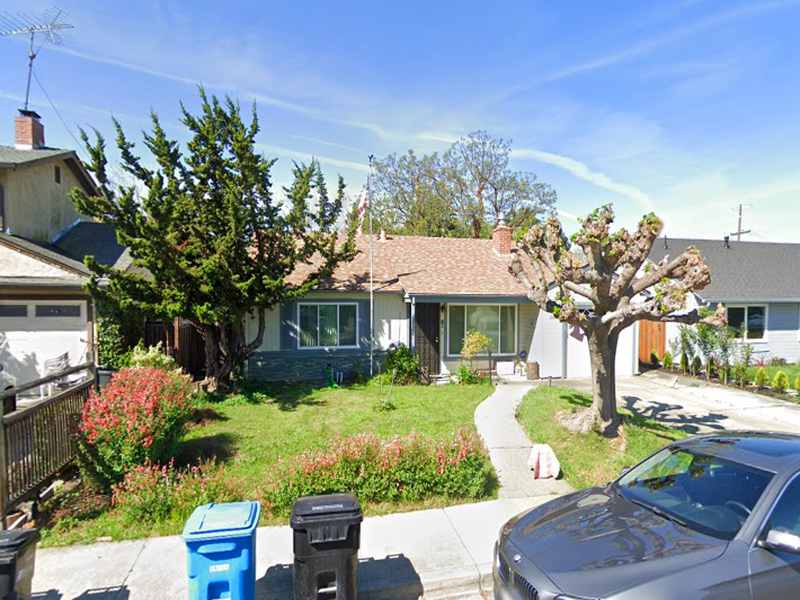tree: (71, 83, 345, 402), (506, 203, 727, 441)
